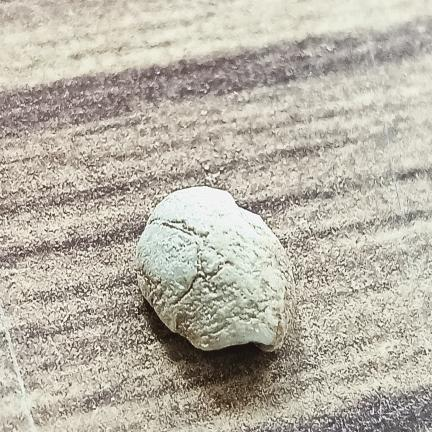cut: (136, 187, 294, 351)
